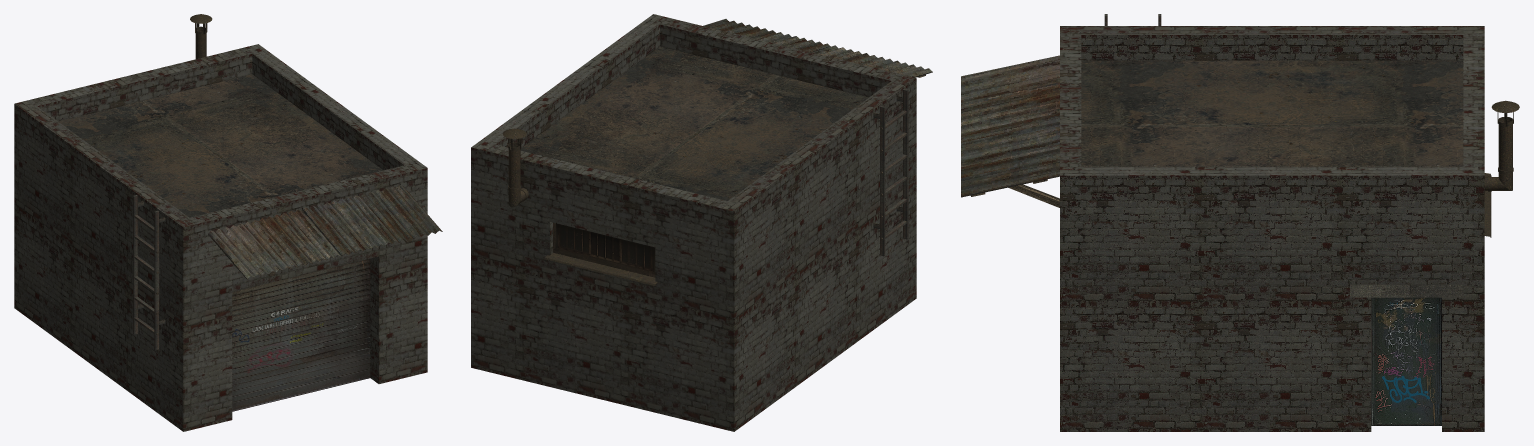
Rendered from garage_hl_2.glb.
3 views of the same model, side by side, from view 1: azimuth 30°, elevation 25°; view 2: azimuth 150°, elevation 25°; view 3: azimuth 270°, elevation 25° (orthographic). The views are drawn at different scales.
Visible parts, largest first — view 1: garage_hl_2; view 2: garage_hl_2; view 3: garage_hl_2.
Boxes of the visible parts, bbox=[...] form: garage_hl_2: bbox=[14, 14, 442, 431]; garage_hl_2: bbox=[471, 14, 932, 431]; garage_hl_2: bbox=[961, 14, 1519, 431].
Bounding box in the file's own units: 5.22 × 4.7 × 7.9.
Materials: 10 (10 with a texture image).
